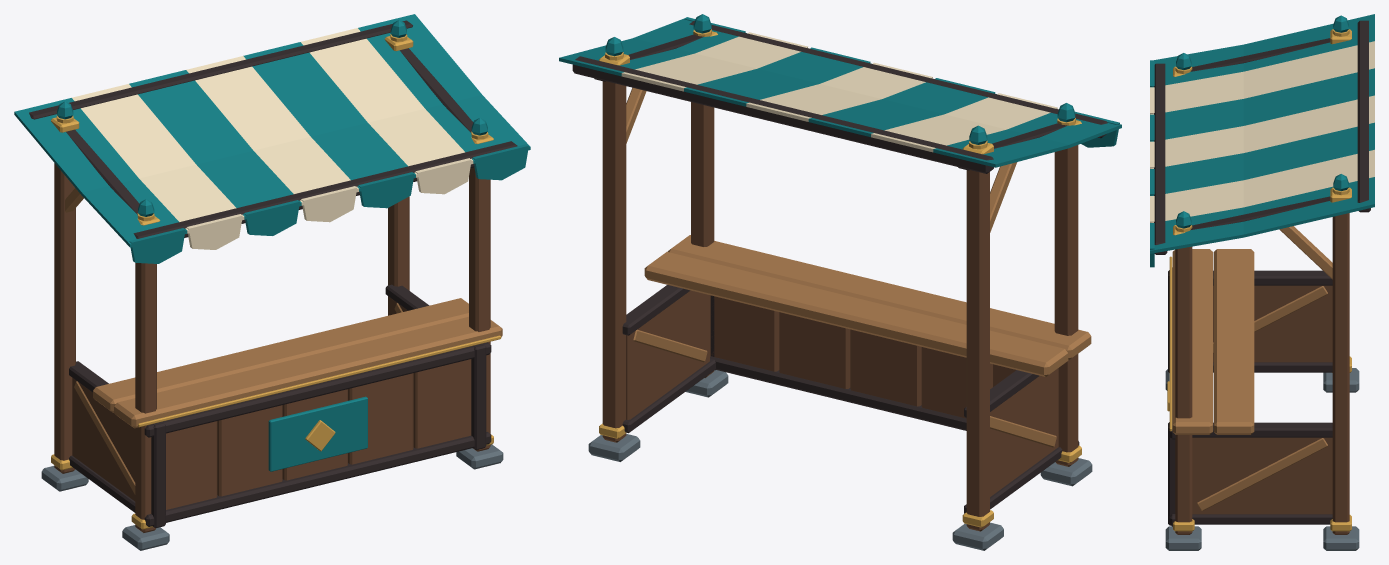
File: 17_Merchant_Stall.glb
3 views of the same model, side by side, from view 1: azimuth 30°, elevation 25°; view 2: azimuth 150°, elevation 25°; view 3: azimuth 270°, elevation 25° (orthographic). The views are drawn at different scales.
Visible parts, largest first — view 1: 17_Merchant_Stall__Body; view 2: 17_Merchant_Stall__Body; view 3: 17_Merchant_Stall__Body.
Part boxes in pixels (x1,y1,x2,y2): 17_Merchant_Stall__Body: (14,14,530,550); 17_Merchant_Stall__Body: (559,14,1121,550); 17_Merchant_Stall__Body: (1150,14,1374,550).
Size of the model in its own units: 6 by 5.46 by 3.
1 material, 1 textured.
